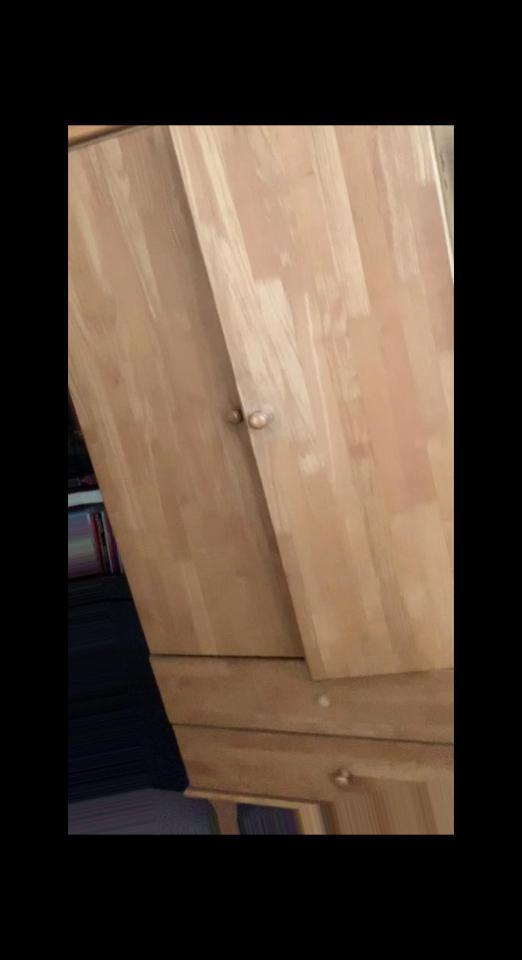Armario: (68, 140, 447, 820)
